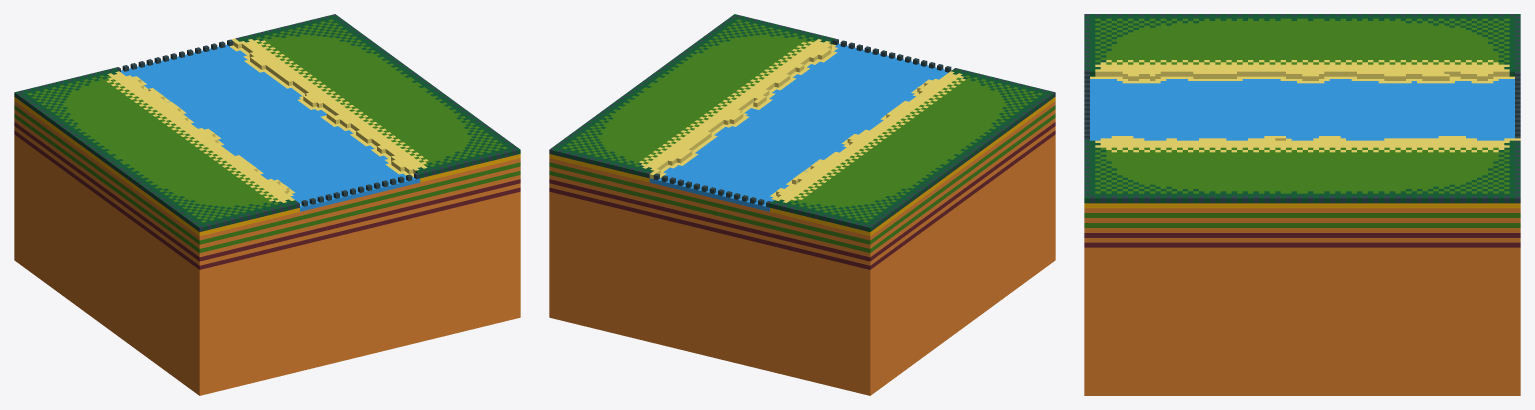
Rendered from river_1_tile.obj.
3 views of the same model, side by side, from view 1: azimuth 30°, elevation 25°; view 2: azimuth 150°, elevation 25°; view 3: azimuth 270°, elevation 25° (orthographic). The views are drawn at different scales.
Size of the model in its own units: 8 by 4 by 8.
1 material, 1 textured.
